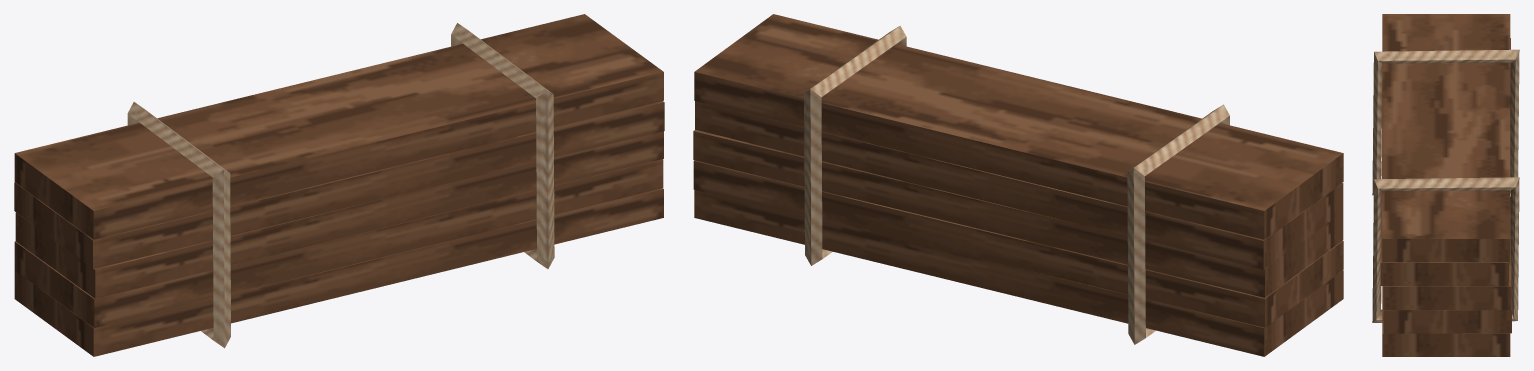
Rendered from stack_of_wooden_planks.fbx.
The picture shows the model from 3 angles, left to right: view 1: azimuth 30°, elevation 25°; view 2: azimuth 150°, elevation 25°; view 3: azimuth 270°, elevation 25°; orthographic projection. The views are drawn at different scales.
Visible parts, largest first — view 1: WoodenPlankStack; view 2: WoodenPlankStack; view 3: WoodenPlankStack.
Boxes of the visible parts, <box> form: WoodenPlankStack: <box>14,14,664,356</box>; WoodenPlankStack: <box>693,14,1343,356</box>; WoodenPlankStack: <box>1372,14,1519,356</box>.
Size of the model in its own units: 0.5528 by 0.1667 by 0.1524.
